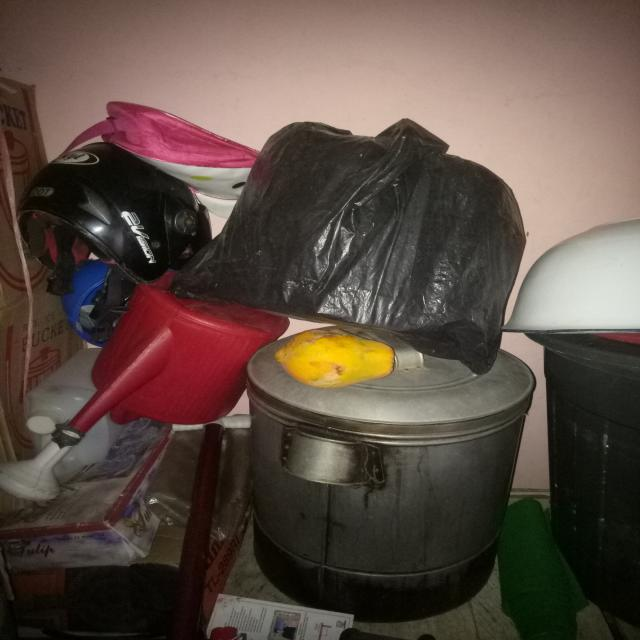Pepaya rippen: (269, 328, 404, 395)
